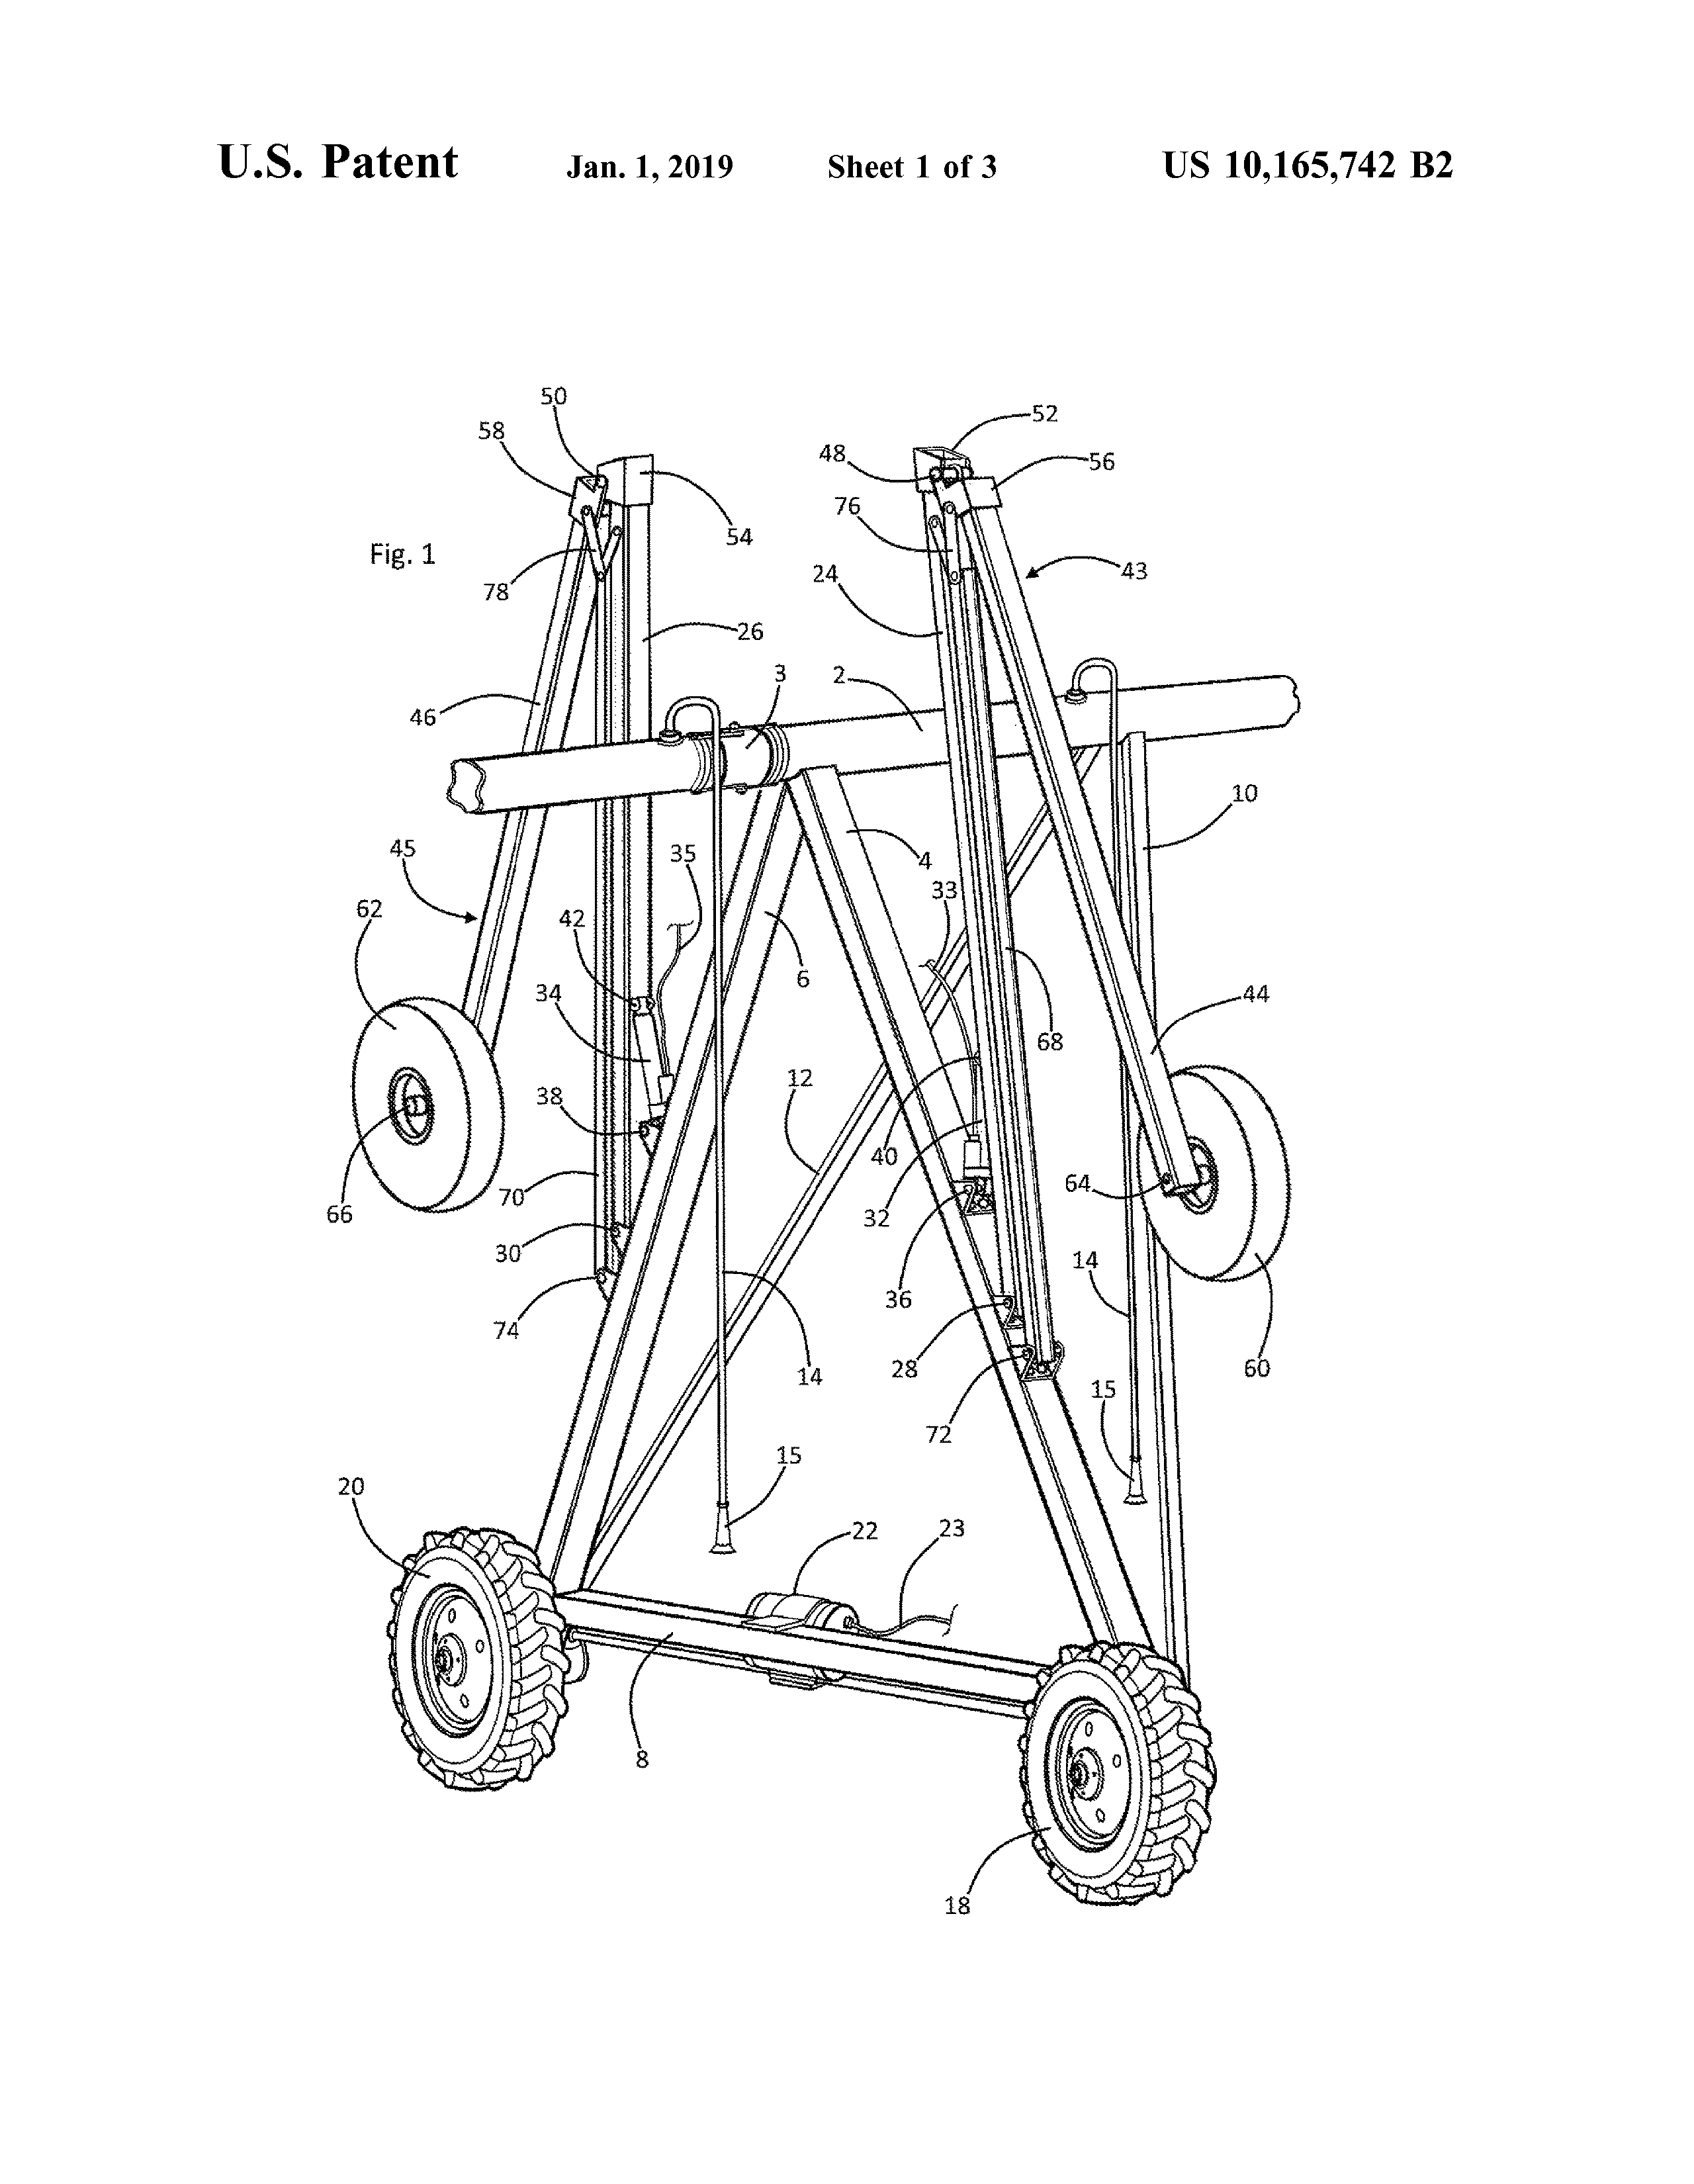patent image: (272, 281, 1378, 1966)
